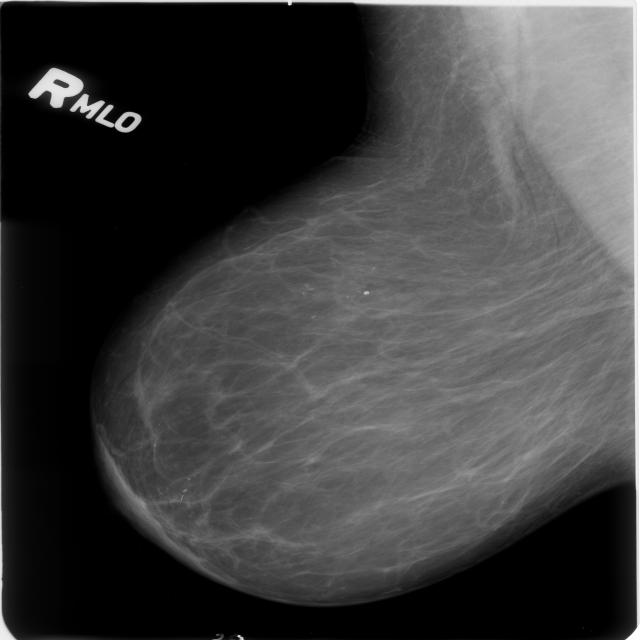normal: (82, 0, 640, 606)
